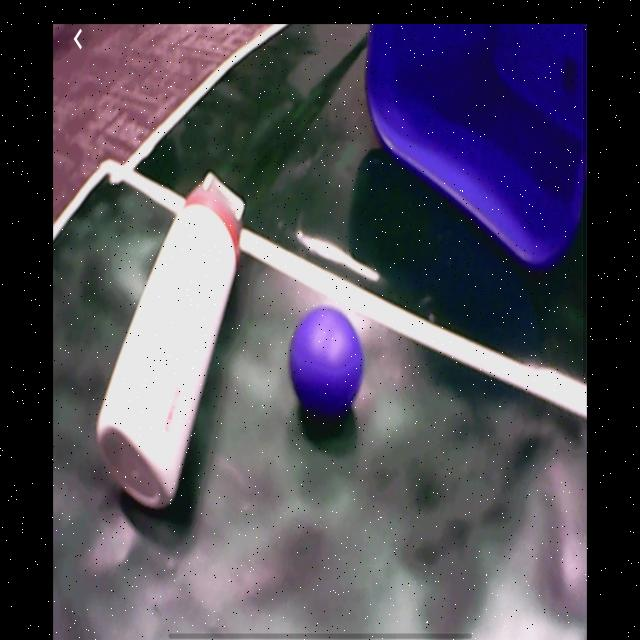ball: (290, 306, 365, 419)
